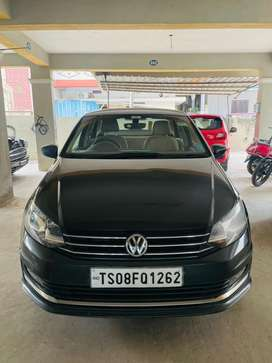TS08FQ1262: (89, 267, 183, 287)
